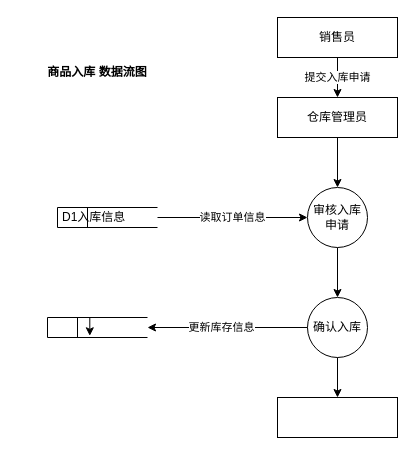
Image size: 415x455. Some labels were removed from this diagram. Here are the shapes that lost their labels. From the top down, the centre of each, then its label:
At (97,327): "D2 库存信息".
At (337,417): "系统".
